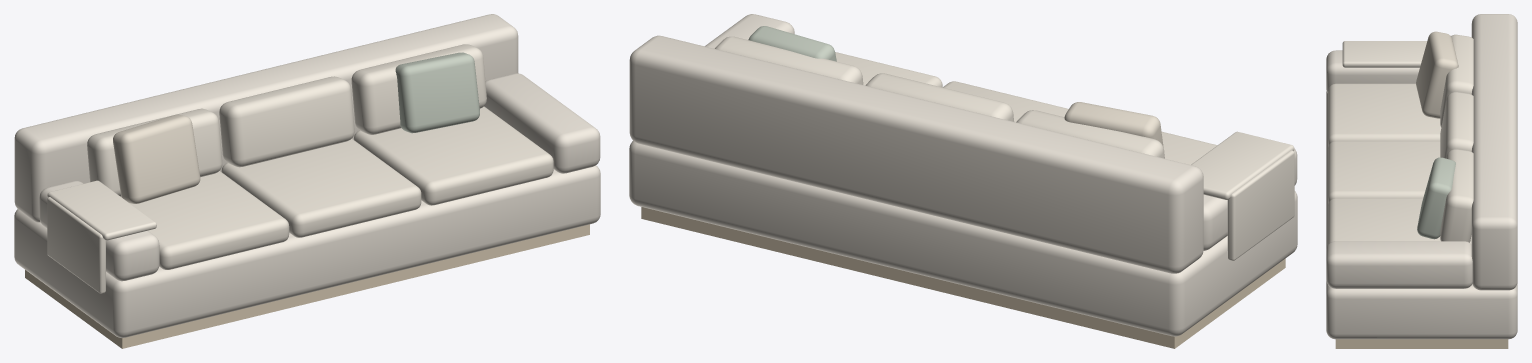
File: mo_sofa.glb
The picture shows the model from 3 angles, left to right: view 1: azimuth 30°, elevation 25°; view 2: azimuth 150°, elevation 25°; view 3: azimuth 270°, elevation 25°; orthographic projection. The views are drawn at different scales.
Parts seen in each view (by area): view 1: body, back, seat1, seat2, seat0, cush1, arm1, plinth, pillowA, pillowB, cush2, throwdrop (+3 smaller); view 2: back, body, plinth, throwdrop, throw, cush1, cush2, cush0, pillowA, pillowB, seat1, arm-1 (+3 smaller); view 3: back, body, arm1, seat1, seat0, seat2, cush2, pillowA, throw, pillowB, arm-1, cush1 (+2 smaller).
Boxes of the visible parts, bbox=[...] form: body: bbox=[14, 165, 600, 337]; back: bbox=[14, 14, 518, 222]; seat1: bbox=[221, 138, 421, 237]; seat2: bbox=[354, 106, 553, 205]; seat0: bbox=[130, 171, 289, 269]; cush1: bbox=[219, 76, 354, 167]; arm1: bbox=[484, 73, 600, 173]; plinth: bbox=[25, 224, 589, 348]; pillowA: bbox=[113, 114, 200, 203]; pillowB: bbox=[395, 52, 479, 133]; cush2: bbox=[351, 44, 486, 134]; throwdrop: bbox=[47, 197, 105, 293]; back: bbox=[629, 35, 1203, 273]; body: bbox=[629, 140, 1297, 336]; plinth: bbox=[641, 207, 1285, 348]; throwdrop: bbox=[1227, 150, 1294, 260]; throw: bbox=[1191, 131, 1294, 199]; cush1: bbox=[865, 73, 1014, 121]; cush2: bbox=[715, 36, 863, 84]; cush0: bbox=[1016, 110, 1164, 158]; pillowA: bbox=[1064, 102, 1163, 147]; pillowB: bbox=[748, 26, 836, 61]; seat1: bbox=[943, 81, 1068, 122]; arm-1: bbox=[1203, 148, 1297, 250]; back: bbox=[1471, 14, 1517, 290]; body: bbox=[1326, 91, 1517, 339]; arm1: bbox=[1326, 241, 1472, 288]; seat1: bbox=[1328, 141, 1440, 204]; seat0: bbox=[1328, 83, 1441, 147]; seat2: bbox=[1328, 198, 1440, 244]; cush2: bbox=[1440, 149, 1473, 242]; pillowA: bbox=[1416, 31, 1458, 118]; throw: bbox=[1342, 41, 1427, 67]; pillowB: bbox=[1417, 157, 1455, 239]; arm-1: bbox=[1326, 50, 1419, 93]; cush1: bbox=[1440, 92, 1473, 158].
Bounding box in the file's own units: 2.63 × 0.8121 × 1.
